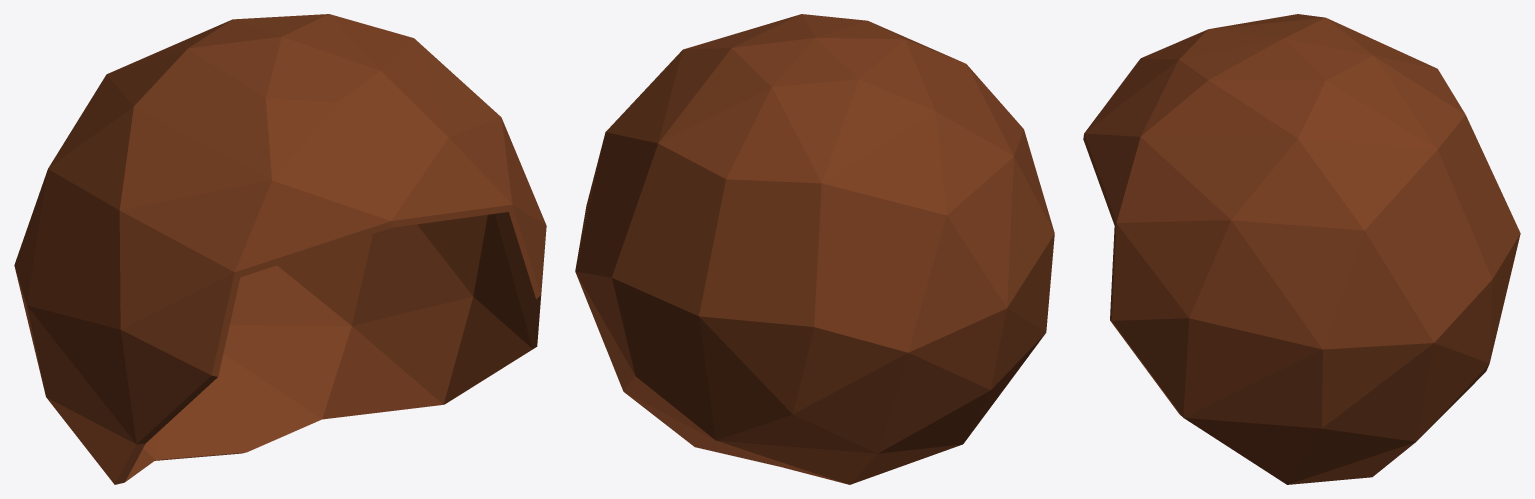
Rendered from Haircut1.fbx.
The picture shows the model from 3 angles, left to right: view 1: azimuth 30°, elevation 25°; view 2: azimuth 150°, elevation 25°; view 3: azimuth 270°, elevation 25°; orthographic projection. The views are drawn at different scales.
Parts seen in each view (by area): view 1: characterBase.001; view 2: characterBase.001; view 3: characterBase.001.
Part boxes in pixels (x1,y1,x2,y2): characterBase.001: (14,14,546,484); characterBase.001: (575,14,1054,484); characterBase.001: (1083,14,1520,484).
Size of the model in its own units: 62.99 by 57.56 by 56.09.
